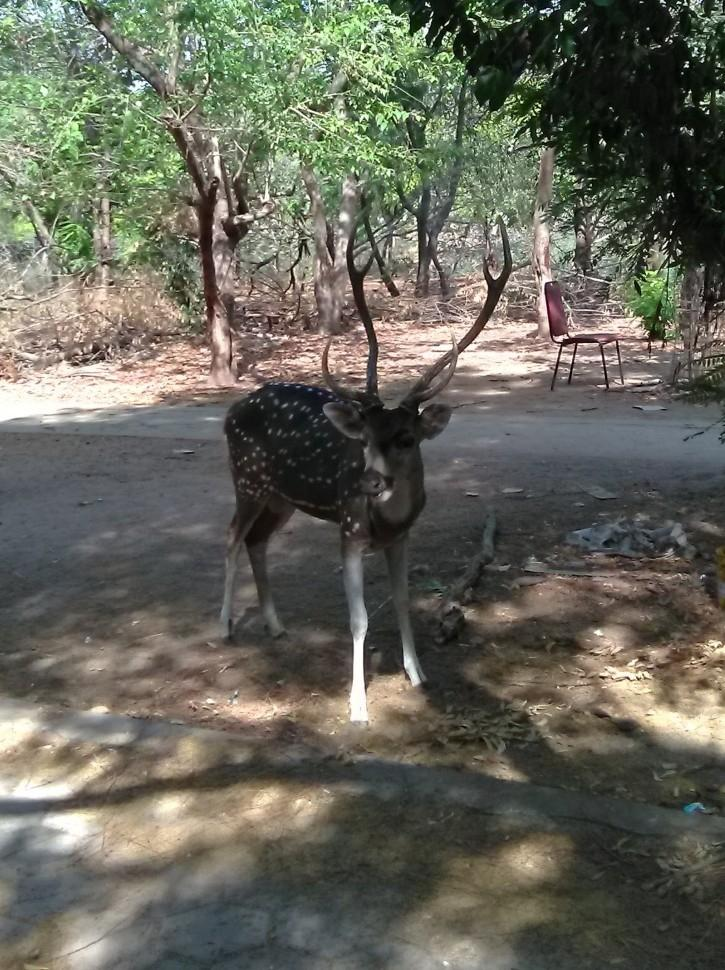Deer: (221, 222, 511, 722)
